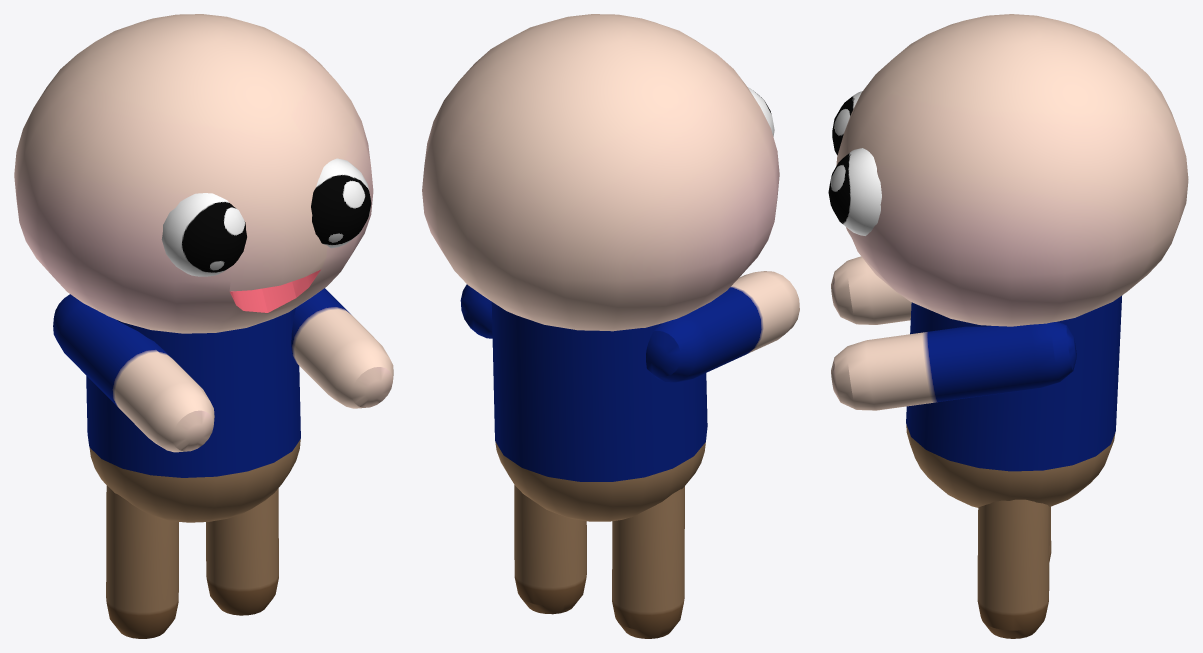
The model's file is idle.fbx.
3 views of the same model, side by side, from view 1: azimuth 30°, elevation 25°; view 2: azimuth 150°, elevation 25°; view 3: azimuth 270°, elevation 25° (orthographic). The views are drawn at different scales.
Visible parts, largest first — view 1: polySurface45, polySurface43, polySurface44; view 2: polySurface45, polySurface43, polySurface44; view 3: polySurface45, polySurface44.
Part boxes in pixels (bbox=[...]): polySurface45: bbox=[14, 14, 393, 522]; polySurface43: bbox=[106, 485, 178, 638]; polySurface44: bbox=[206, 488, 278, 615]; polySurface45: bbox=[422, 14, 799, 521]; polySurface43: bbox=[612, 486, 684, 638]; polySurface44: bbox=[514, 485, 586, 614]; polySurface45: bbox=[828, 14, 1188, 507]; polySurface44: bbox=[977, 499, 1049, 638].
Size of the model in its own units: 420 by 758 by 428.
Materials: 1 (1 with a texture image).
